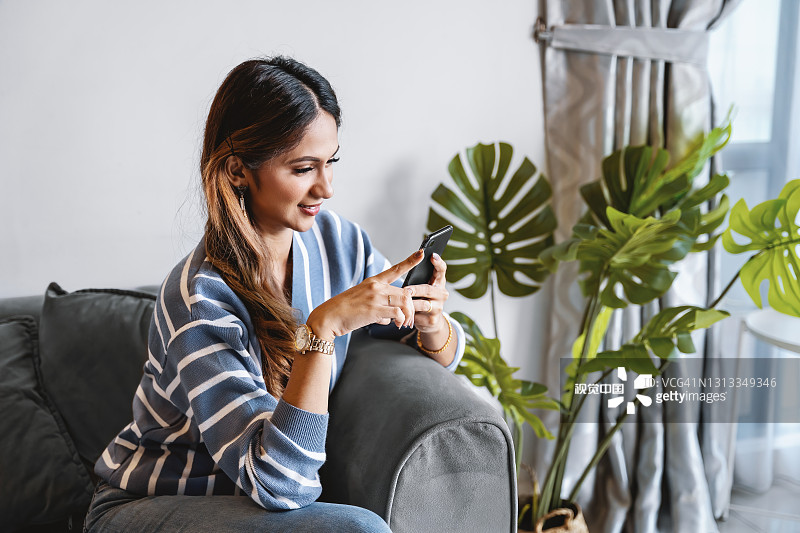reading: (310, 230, 459, 345)
